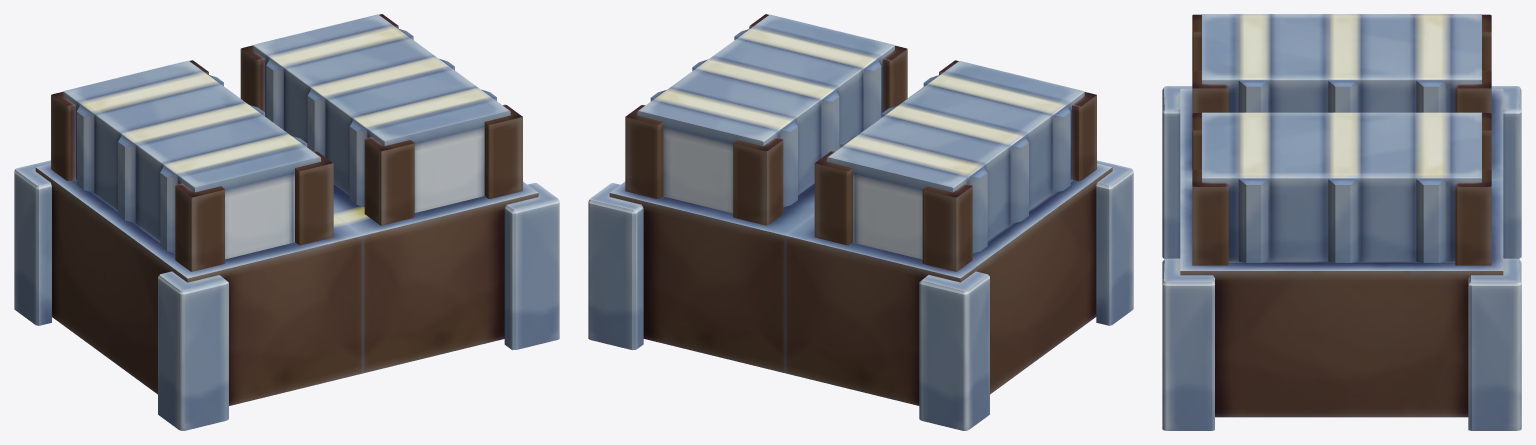
The model's file is char_crate_a3.glb.
3 views of the same model, side by side, from view 1: azimuth 30°, elevation 25°; view 2: azimuth 150°, elevation 25°; view 3: azimuth 270°, elevation 25° (orthographic). The views are drawn at different scales.
Visible parts, largest first — view 1: crate_a3_11_dtl_mesh; view 2: crate_a3_11_dtl_mesh; view 3: crate_a3_11_dtl_mesh.
Part boxes in pixels (bbox=[...]): crate_a3_11_dtl_mesh: bbox=[14, 14, 559, 430]; crate_a3_11_dtl_mesh: bbox=[588, 14, 1133, 430]; crate_a3_11_dtl_mesh: bbox=[1162, 14, 1521, 430].
Size of the model in its own units: 0.8667 by 0.485 by 0.6673.
1 material, 1 textured.
